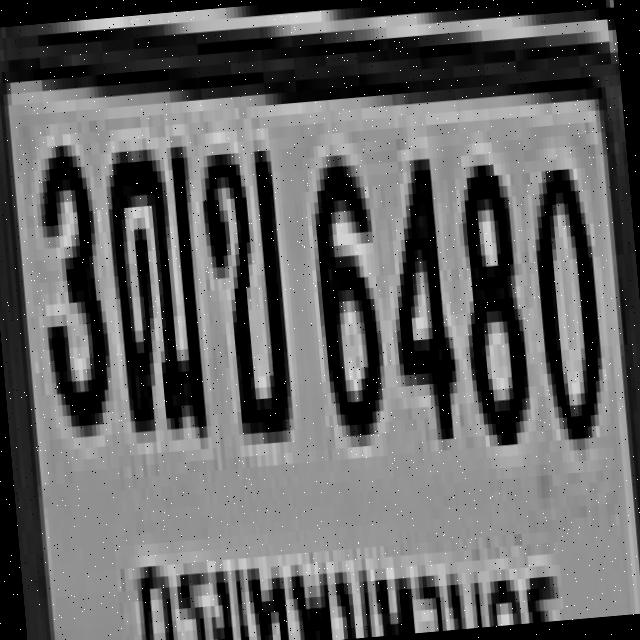0: (524, 157, 604, 440)
11KhorKhai: (194, 138, 290, 436)
27ThorPhuThao: (98, 135, 206, 433)
3: (26, 132, 111, 428)
4: (376, 147, 456, 431)
6: (304, 142, 384, 426)
8: (448, 152, 528, 436)
